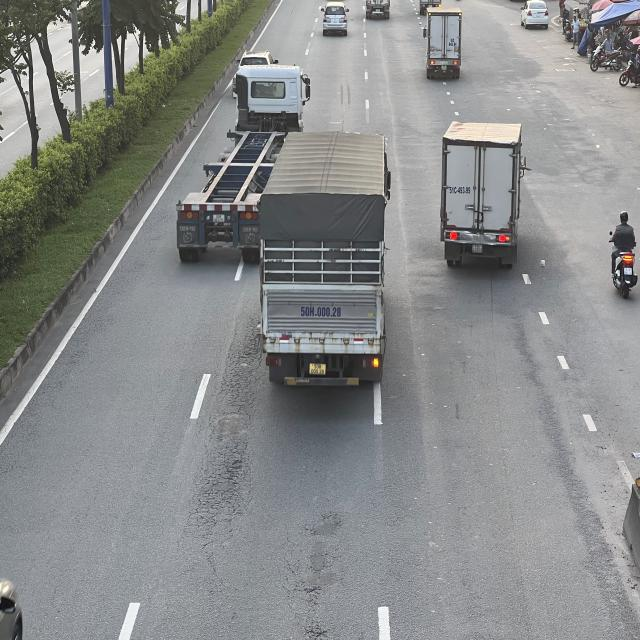car: (320, 3, 349, 36), (520, 0, 550, 29)
container: (177, 64, 311, 262)
truck: (260, 136, 390, 384), (441, 119, 522, 275), (424, 7, 463, 80)
